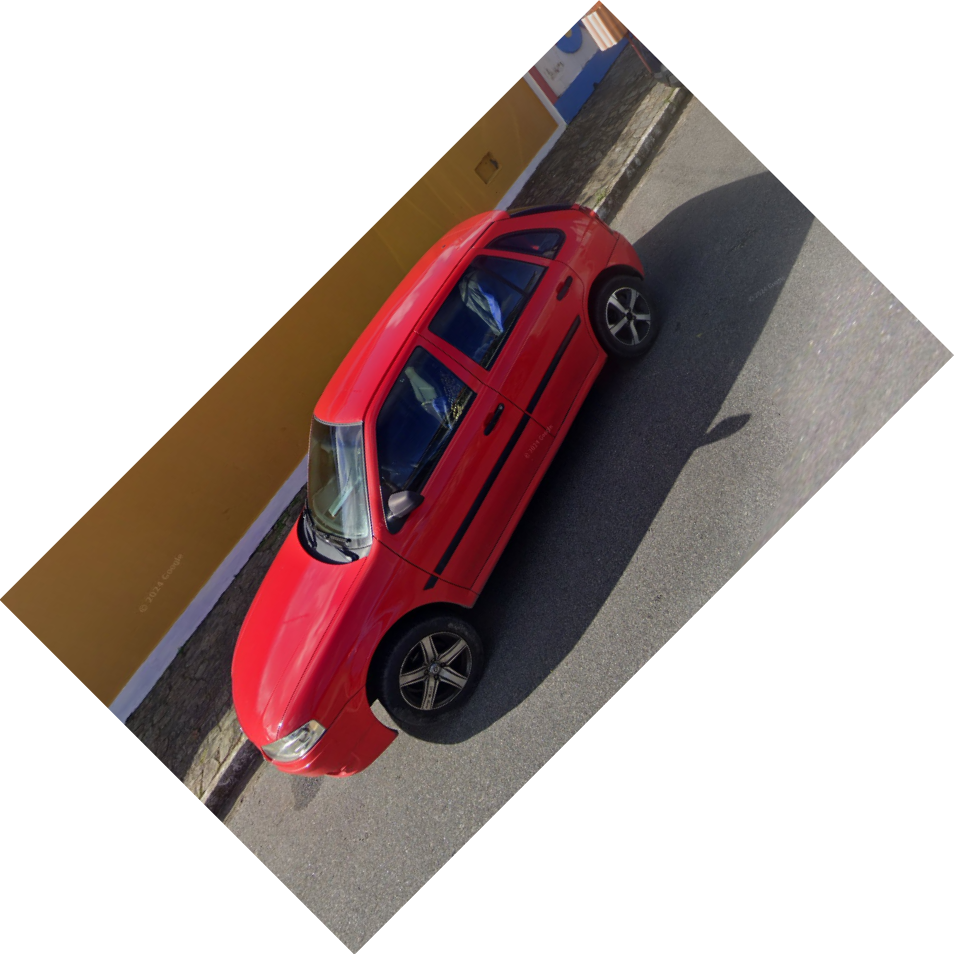car: (229, 200, 661, 780)
